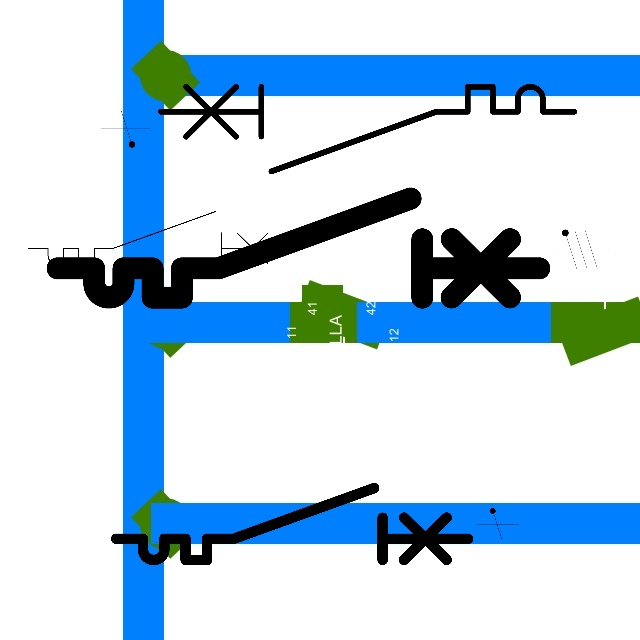interruptor_termomagnetico: (45, 186, 552, 310), (150, 76, 584, 182), (107, 479, 477, 569), (22, 205, 290, 270)
